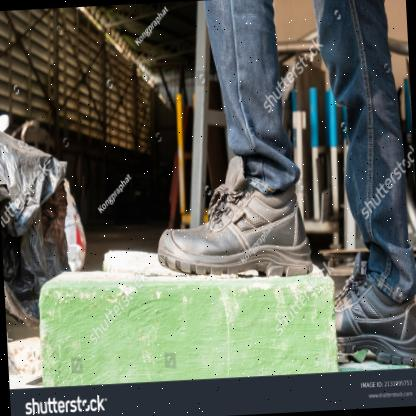bota: (148, 149, 316, 286), (331, 244, 416, 371)
